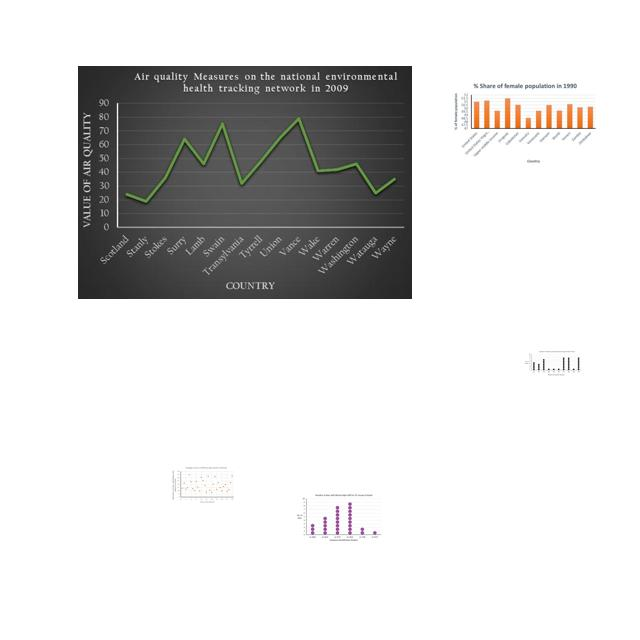Graph: (78, 66, 412, 299), (451, 79, 600, 168), (294, 493, 383, 543), (171, 466, 236, 504), (524, 350, 582, 376)
